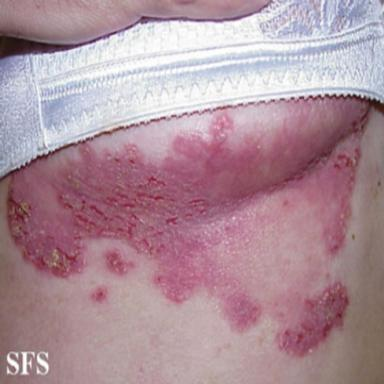Hailey-Hailey-Disease: (6, 100, 371, 359), (101, 248, 136, 276), (88, 285, 107, 303)
